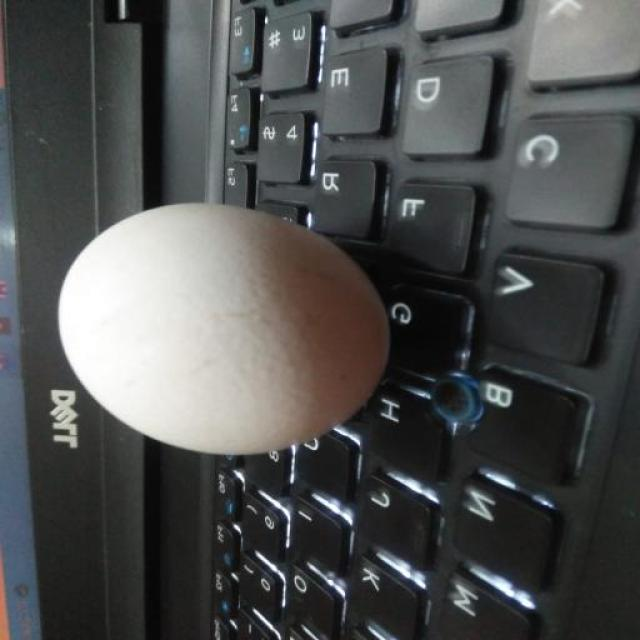telur: (61, 202, 390, 461)
